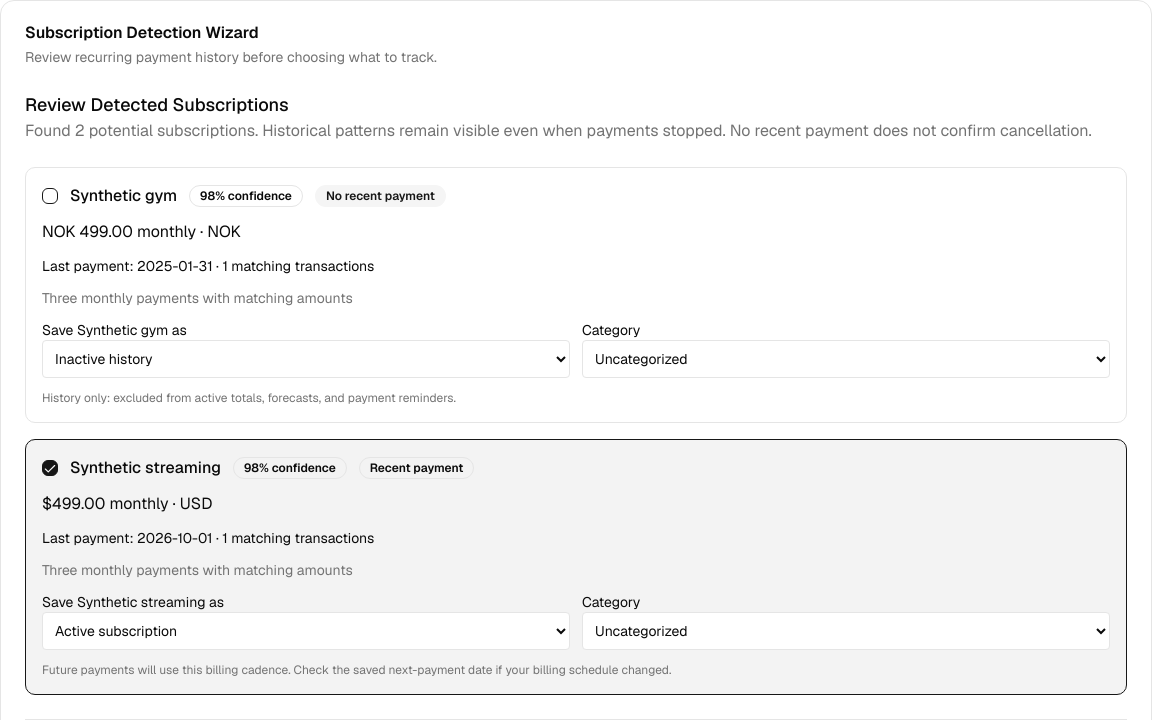
Test: detected payment review › keeps historical patterns visible, unchecked, and inactive while preserving candidate currencies
The width and height of the screenshot is (1152, 720).
expect the checkbox named "Select Synthetic streaming" is checked: met, box [42,460,58,476]
expect the dropdown labelled "Save Synthetic gym as" shows "Inactive history": met, box [42,340,570,378]
What coordinates should you click on to do the following:
click the checkbox named "Select Synthetic gym"
I would click on:
 (50, 196)
Its box is [42,188,58,204].
(page scrolled)
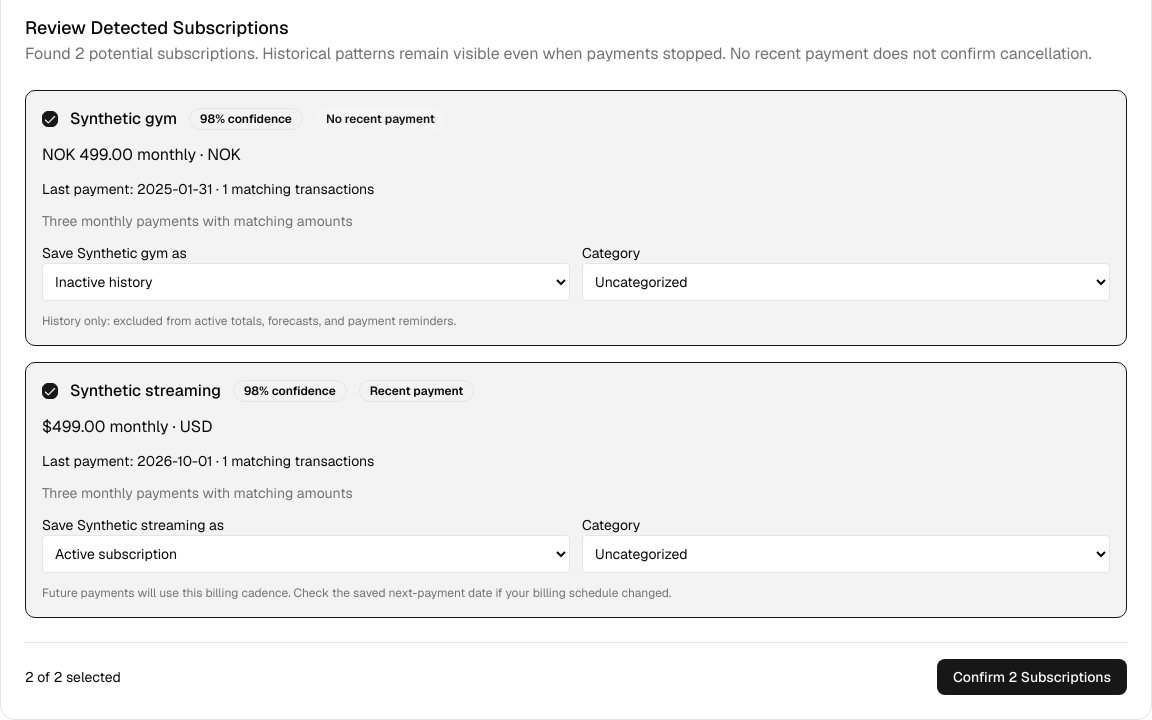
What coordinates should you click on to do the following:
click the button "Confirm 2 Subscriptions"
I would click on:
 (1032, 677)
Its box is [937,659,1127,695].
(page scrolled)
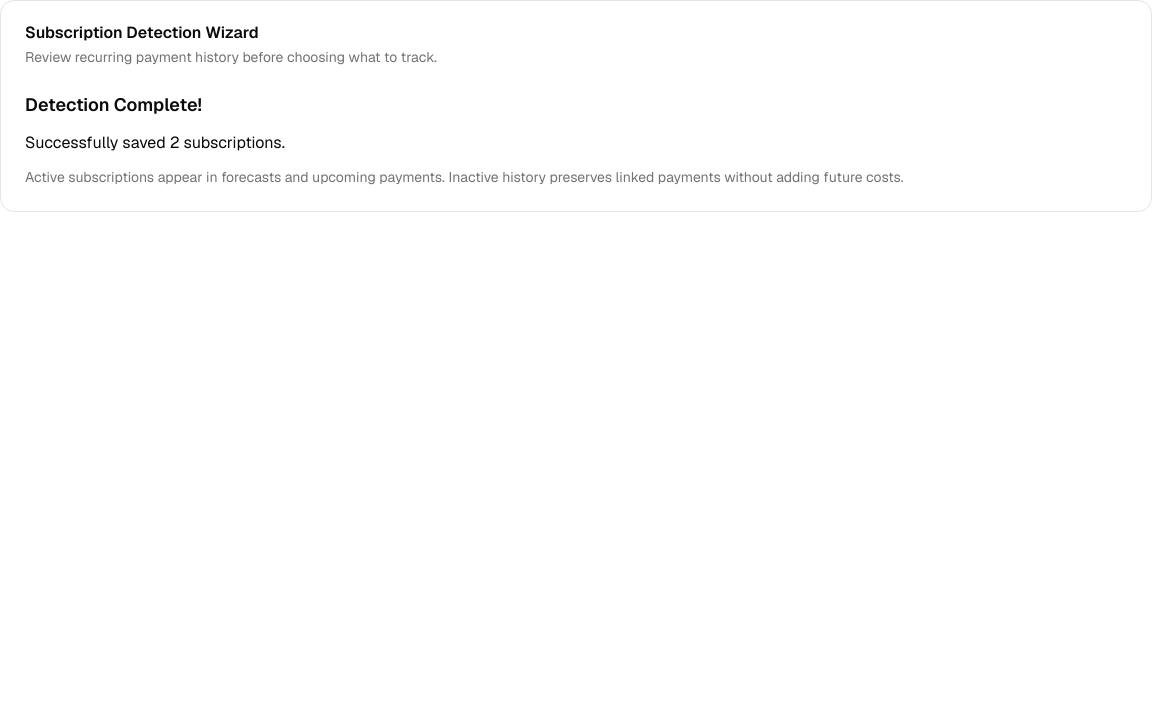
expect the heading "Detection Complete!" is shown: met, box [25,93,202,116]
